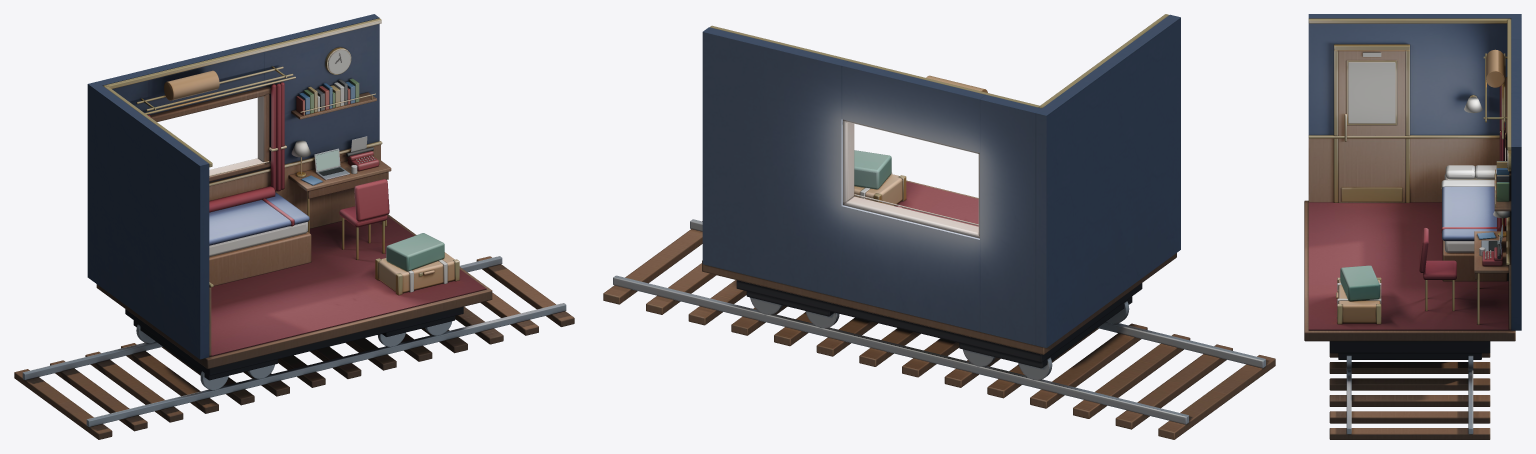
The model's file is train.glb.
3 renders of one model, left to right at view 1: azimuth 30°, elevation 25°; view 2: azimuth 150°, elevation 25°; view 3: azimuth 270°, elevation 25°, orthographic. The views are drawn at different scales.
Parts seen in each view (by area): view 1: static, bed, window, chest, chair, bookshelf, monitor, typewriter, clock; view 2: static, window, chest; view 3: static, door, bed, chest, chair, bookshelf, window, lamp, typewriter.
Part boxes in pixels (left/top/right/bottom): static: left=14, top=14, right=574, bottom=439; bed: left=209, top=186, right=311, bottom=285; window: left=145, top=76, right=295, bottom=191; chest: left=375, top=233, right=459, bottom=295; chair: left=339, top=179, right=389, bottom=259; bookshelf: left=291, top=78, right=376, bottom=119; monitor: left=314, top=148, right=349, bottom=180; typewriter: left=346, top=136, right=379, bottom=171; clock: left=325, top=47, right=351, bottom=74; static: left=603, top=14, right=1275, bottom=439; window: left=843, top=119, right=979, bottom=238; chest: left=854, top=150, right=906, bottom=205; static: left=1304, top=14, right=1521, bottom=439; door: left=1334, top=44, right=1409, bottom=202; bed: left=1441, top=165, right=1507, bottom=281; chest: left=1336, top=265, right=1381, bottom=324; chair: left=1419, top=228, right=1456, bottom=311; bookshelf: left=1494, top=161, right=1511, bottom=211; window: left=1499, top=77, right=1511, bottom=231; lamp: left=1464, top=95, right=1511, bottom=237; typewriter: left=1482, top=235, right=1502, bottom=266.
Size of the model in its own units: 6.2 by 3.23 by 2.57.
1 material, 1 textured.
